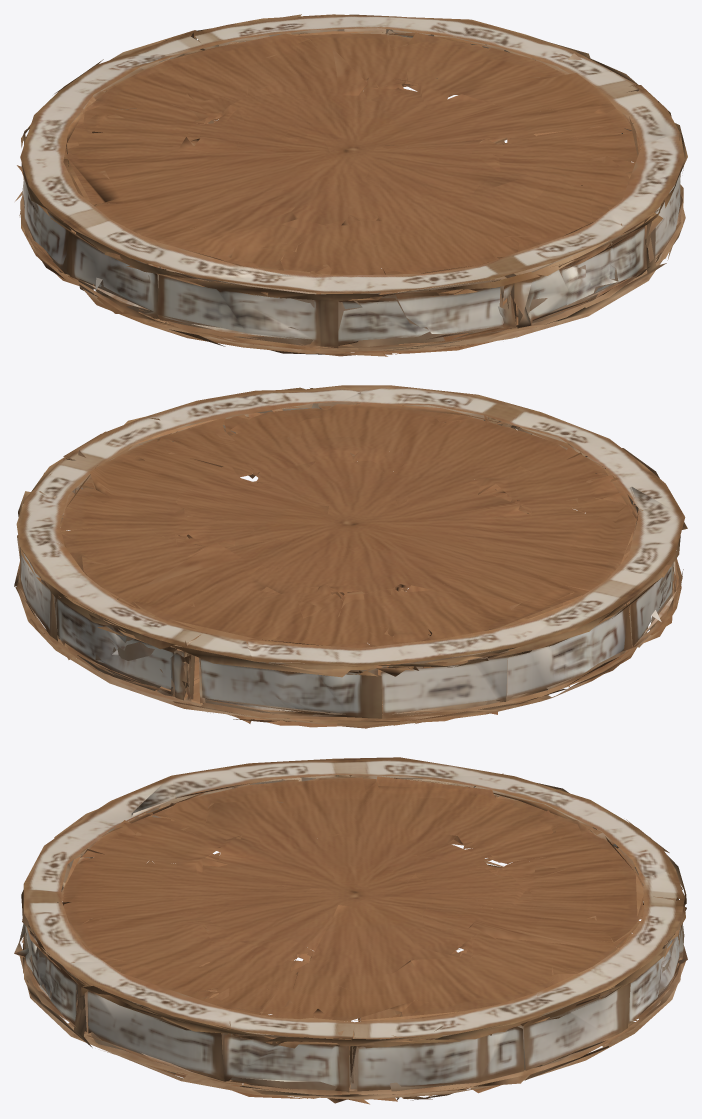
File: unified--detail--carousel-deck.glb
3 views of the same model, one above another, from view 1: azimuth 30°, elevation 25°; view 2: azimuth 150°, elevation 25°; view 3: azimuth 270°, elevation 25° (orthographic).
Visible parts, largest first — view 1: carousel-deck-1; view 2: carousel-deck-1; view 3: carousel-deck-1.
Part boxes in pixels (<box>): carousel-deck-1: <box>15,14,687,356</box>; carousel-deck-1: <box>14,385,687,728</box>; carousel-deck-1: <box>14,757,687,1104</box>.
Size of the model in its own units: 1.2 by 0.2022 by 1.22.
1 material, 1 textured.
